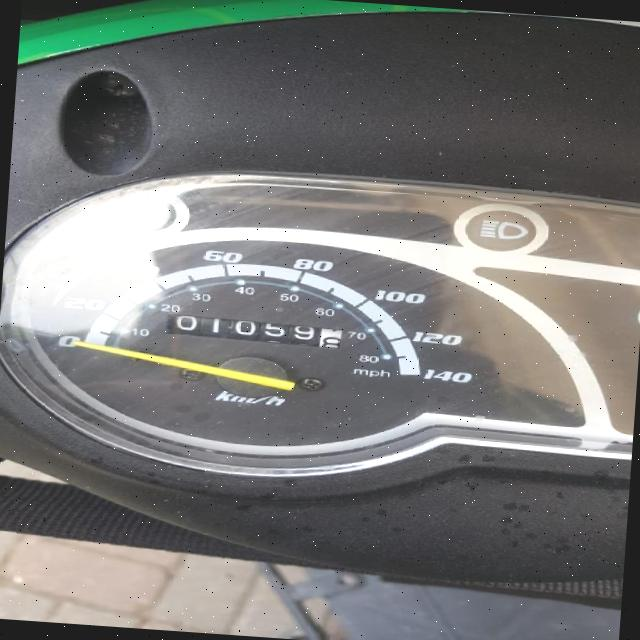odometer: (160, 310, 346, 352)
